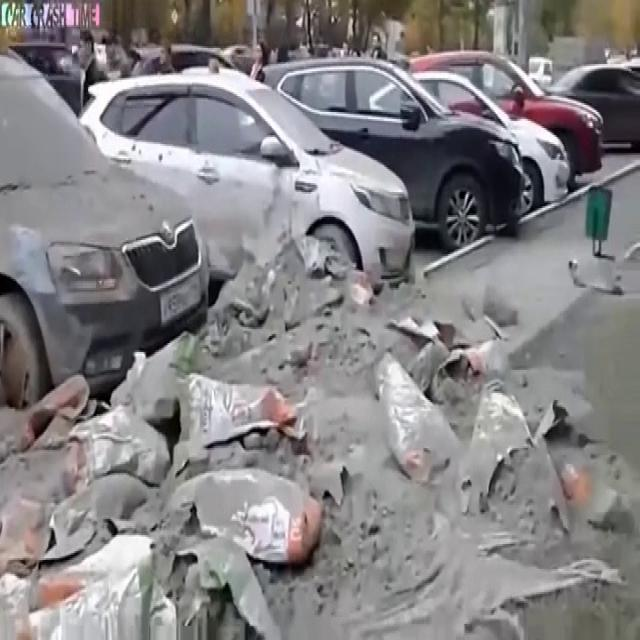accident: (3, 168, 372, 398)
